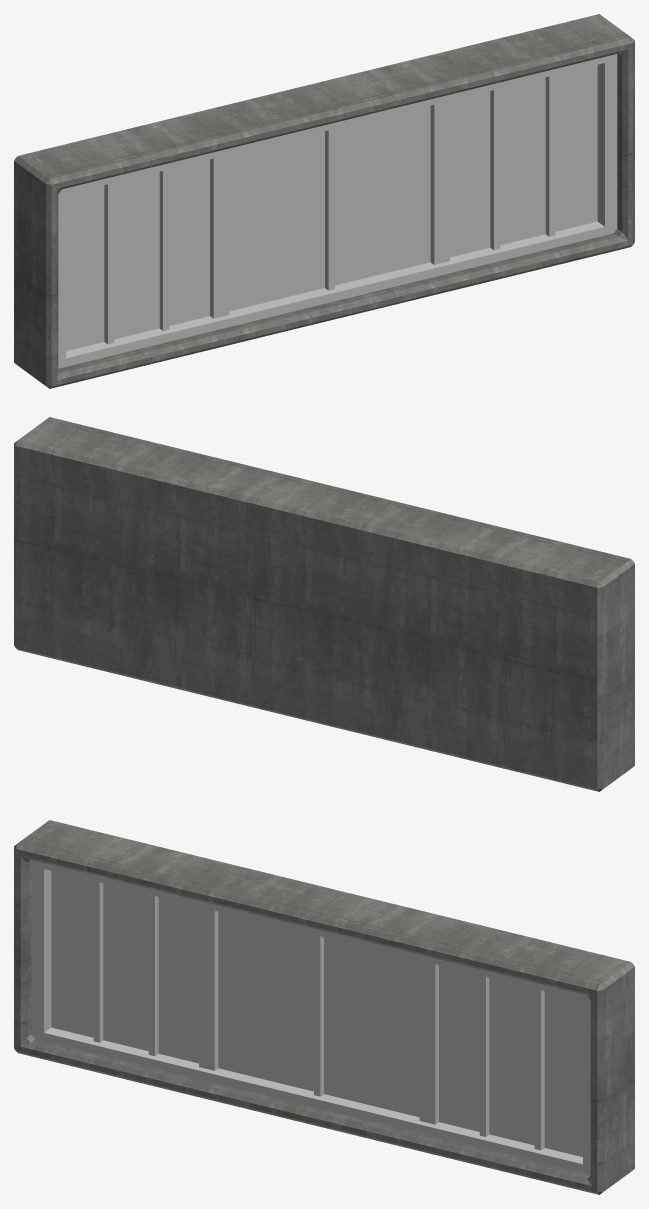
The model's file is Kitbash3D_Brutalist_Window01.fbx.
The picture shows the model from 3 angles, top to bottom: view 1: azimuth 30°, elevation 25°; view 2: azimuth 150°, elevation 25°; view 3: azimuth 330°, elevation 25°; orthographic projection.
Visible parts, largest first — view 1: LG_WinPod_B_WinGlass, LG_WinPod_B_WinPod_Shell, LG_WinPod_B_WinPod_Mull; view 2: LG_WinPod_B_WinPod_Shell; view 3: LG_WinPod_B_WinGlass, LG_WinPod_B_WinPod_Shell, LG_WinPod_B_WinPod_Mull.
Boxes of the visible parts, <box> form: LG_WinPod_B_WinGlass: <box>66,65,597,350</box>; LG_WinPod_B_WinPod_Shell: <box>14,14,634,388</box>; LG_WinPod_B_WinPod_Mull: <box>58,54,617,368</box>; LG_WinPod_B_WinPod_Shell: <box>14,417,634,791</box>; LG_WinPod_B_WinGlass: <box>51,871,582,1156</box>; LG_WinPod_B_WinPod_Shell: <box>14,820,634,1194</box>; LG_WinPod_B_WinPod_Mull: <box>31,860,590,1174</box>.
Bounding box in the file's own units: 5.09 × 1.73 × 0.5418.
